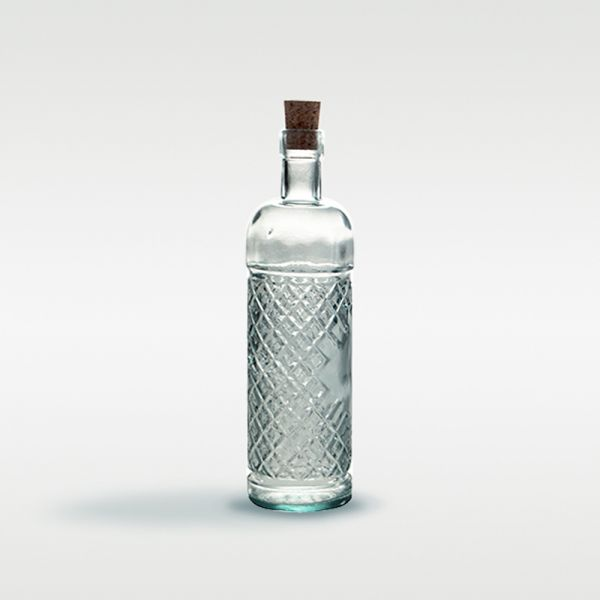glass_bottle: (222, 86, 388, 531)
